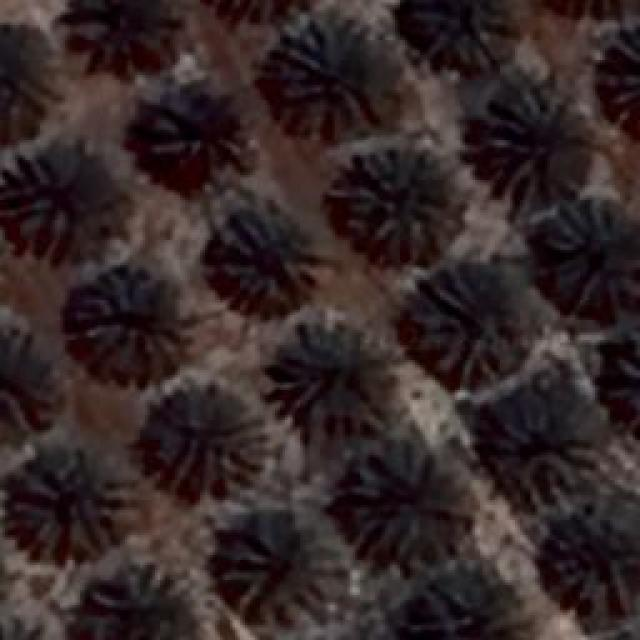PalmTree: (342, 440, 470, 565), (270, 318, 392, 440), (340, 147, 465, 260), (220, 512, 345, 620), (470, 88, 585, 200), (70, 272, 180, 386), (152, 394, 270, 498), (8, 450, 120, 558), (275, 18, 370, 140), (7, 151, 115, 254), (215, 210, 328, 308), (540, 514, 640, 624), (410, 272, 508, 382), (140, 88, 242, 192), (490, 410, 598, 508), (547, 192, 635, 302), (396, 567, 523, 640), (80, 577, 197, 640), (408, 0, 510, 65), (74, 0, 168, 68), (0, 318, 52, 431), (0, 23, 55, 128), (600, 22, 638, 128), (602, 328, 640, 432), (198, 0, 318, 26), (520, 0, 640, 26), (0, 608, 60, 640)
